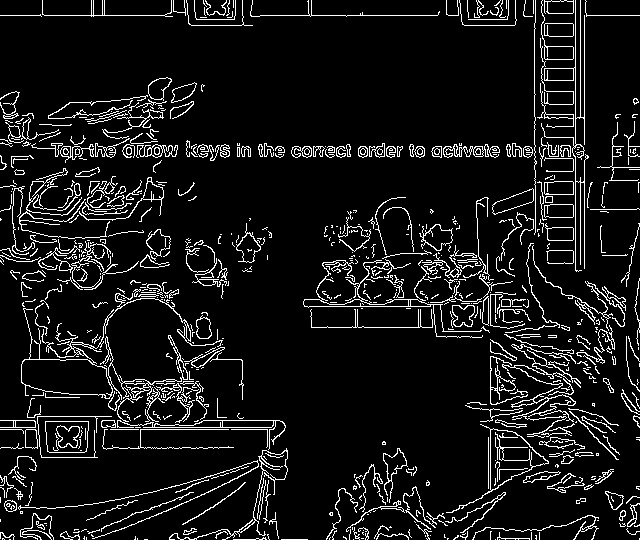down: (334, 222, 374, 254)
left: (416, 220, 458, 257), (141, 224, 177, 259)
up: (233, 230, 265, 267)
